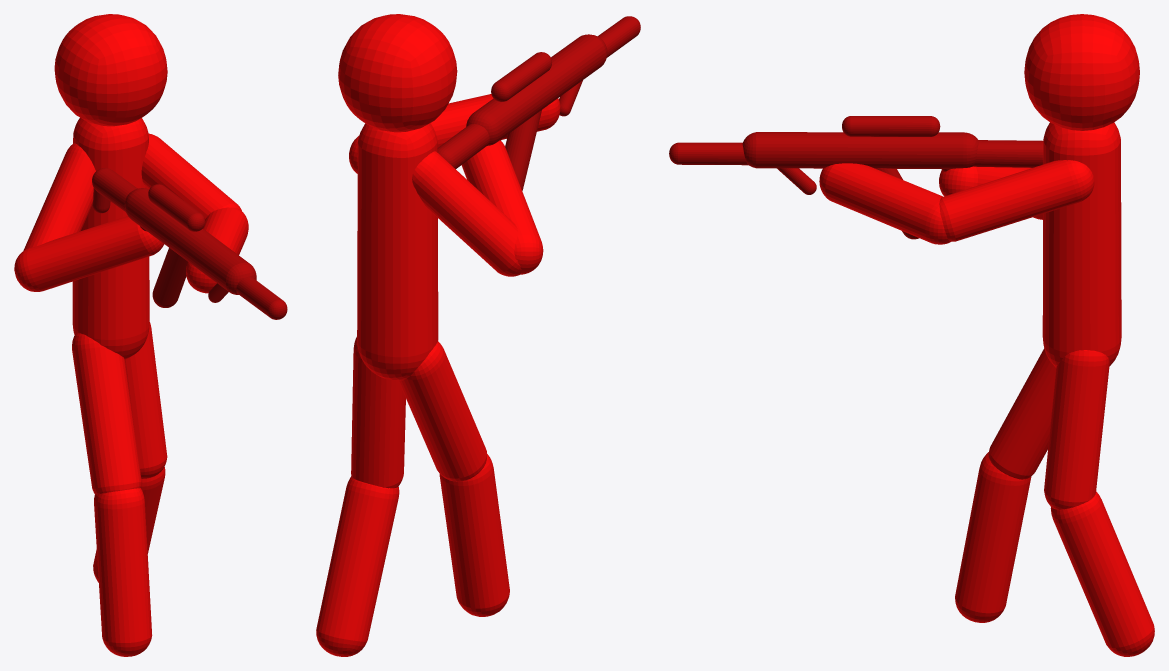
The model's file is LowPolyChar_WeapPose3.fbx.
The picture shows the model from 3 angles, left to right: view 1: azimuth 30°, elevation 25°; view 2: azimuth 150°, elevation 25°; view 3: azimuth 270°, elevation 25°; orthographic projection. The views are drawn at different scales.
Parts seen in each view (by area): view 1: ArmR.001; view 2: ArmR.001; view 3: ArmR.001.
Part boxes in pixels (<box>): ArmR.001: <box>14,14,287,656</box>; ArmR.001: <box>316,14,640,656</box>; ArmR.001: <box>669,14,1154,656</box>.
Size of the model in its own units: 3.18 by 9.91 by 7.05.
